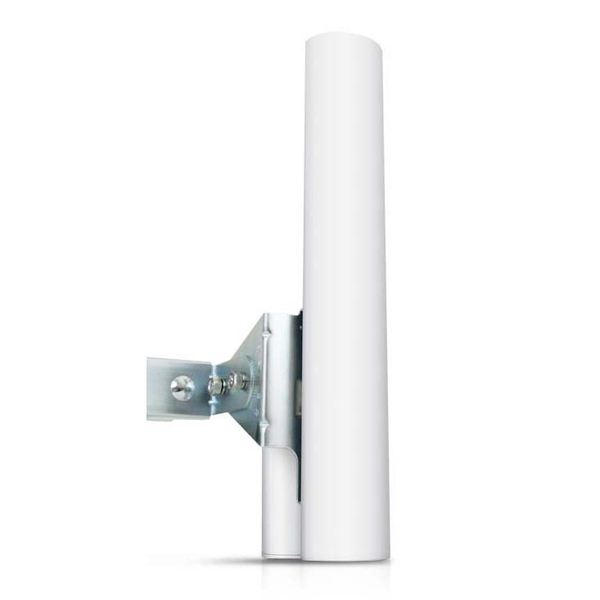sa: (196, 27, 423, 584)
